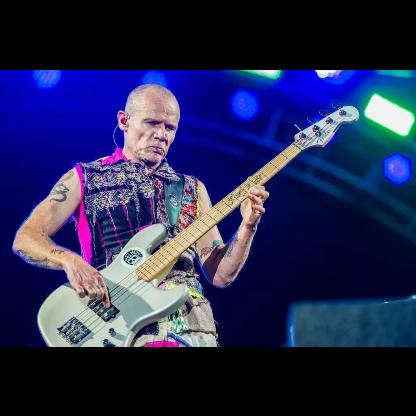bass: (34, 100, 360, 346)
